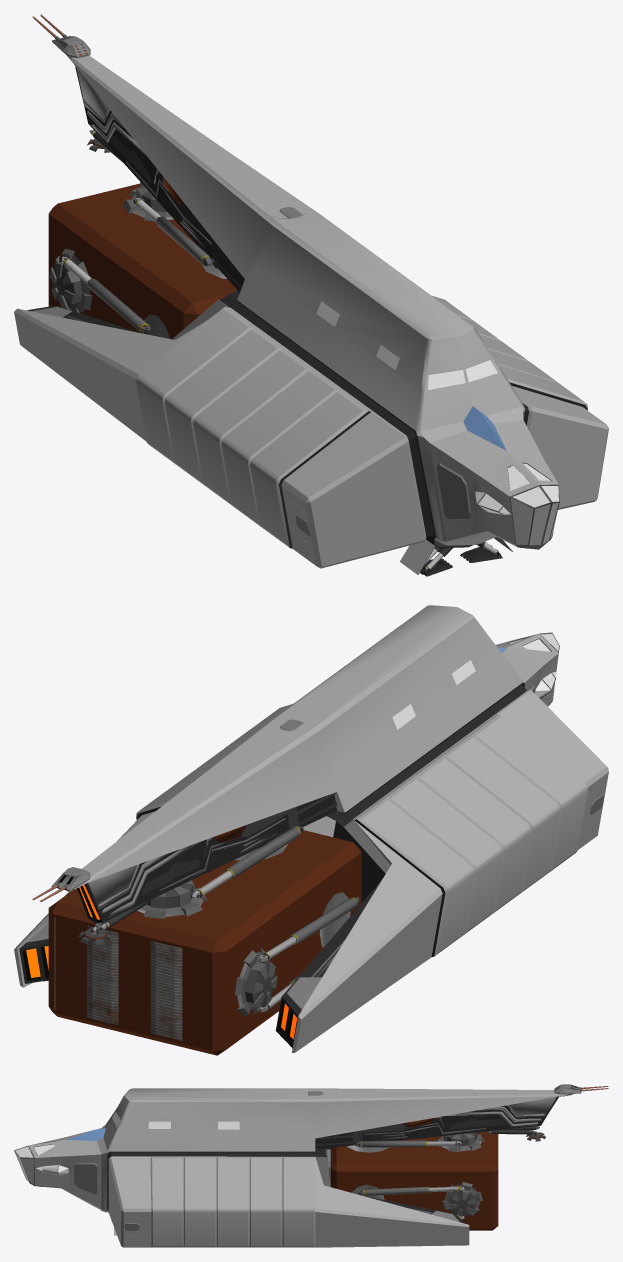
File: MerchantShip.fbx
The picture shows the model from 3 angles, top to bottom: view 1: azimuth 30°, elevation 25°; view 2: azimuth 150°, elevation 25°; view 3: azimuth 270°, elevation 25°; orthographic projection. The views are drawn at different scales.
Parts seen in each view (by area): view 1: Ship, container, WindowGlass, ContainerClaw.001, Piston botom.001, Piston botom.000, LandingGearHatch, LandingGear; view 2: Ship, container, ContainerHatchBack, ContainerClaw.001, ContainerClaw, WindowGlass, Piston botom.000, pipingMainTrustPod.007, Piston botom.001, pipingSideTrustPod.000, HatchUpper, EngineGlow; view 3: Ship, container, WindowGlass, ContainerClaw.001, ContainerClaw, pipingMainTrustPod.007, Piston botom.000, Piston botom.001, hattchsideL, pipingMainTrustPod.001, DecoMainTrustPod, pipingMainTrustPod.010 (+1 smaller).
Boxes of the visible parts, left/top/right/bottom form: Ship: left=14, top=54, right=608, bottom=568; container: left=48, top=183, right=237, bottom=339; WindowGlass: left=316, top=301, right=558, bottom=545; ContainerClaw.001: left=49, top=248, right=92, bottom=312; Piston botom.001: left=87, top=278, right=150, bottom=334; Piston botom.000: left=155, top=216, right=212, bottom=266; LandingGearHatch: left=400, top=537, right=512, bottom=574; LandingGear: left=420, top=547, right=502, bottom=576; Ship: left=14, top=605, right=608, bottom=1052; container: left=48, top=830, right=361, bottom=1055; ContainerHatchBack: left=54, top=917, right=210, bottom=1047; ContainerClaw.001: left=235, top=948, right=277, bottom=1016; ContainerClaw: left=140, top=880, right=208, bottom=918; WindowGlass: left=392, top=634, right=558, bottom=729; Piston botom.000: left=226, top=825, right=303, bottom=879; pipingMainTrustPod.007: left=88, top=865, right=137, bottom=906; Piston botom.001: left=289, top=897, right=359, bottom=984; pipingSideTrustPod.000: left=26, top=923, right=321, bottom=1009; HatchUpper: left=266, top=719, right=308, bottom=737; EngineGlow: left=26, top=946, right=297, bottom=1039; Ship: left=14, top=1088, right=572, bottom=1247; container: left=331, top=1131, right=498, bottom=1230; WindowGlass: left=15, top=1111, right=239, bottom=1183; ContainerClaw.001: left=442, top=1182, right=482, bottom=1216; ContainerClaw: left=436, top=1132, right=484, bottom=1152; pipingMainTrustPod.007: left=509, top=1096, right=556, bottom=1115; Piston botom.000: left=355, top=1140, right=426, bottom=1147; Piston botom.001: left=358, top=1187, right=429, bottom=1195; hattchsideL: left=124, top=1217, right=148, bottom=1237; pipingMainTrustPod.001: left=446, top=1111, right=538, bottom=1126; DecoMainTrustPod: left=315, top=1130, right=362, bottom=1146; pipingMainTrustPod.010: left=362, top=1123, right=407, bottom=1132.
Bounding box in the file's own units: 4839 × 1692 × 1245.
7 materials, 5 textured.
